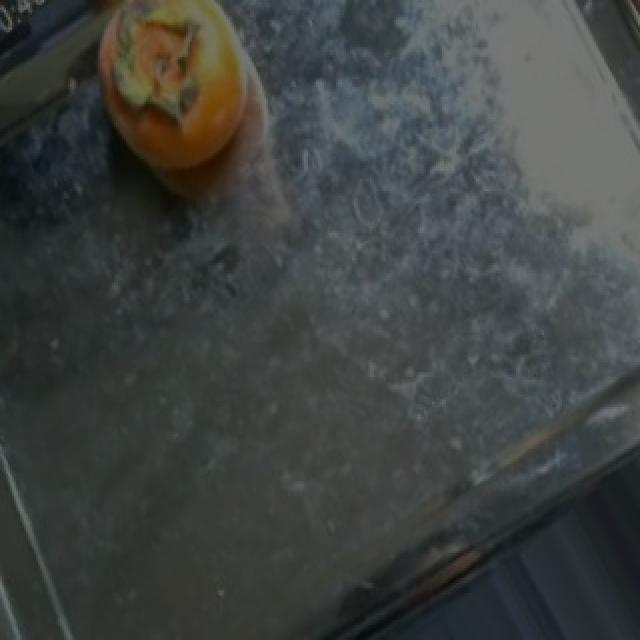Fruit: (74, 2, 276, 194)
